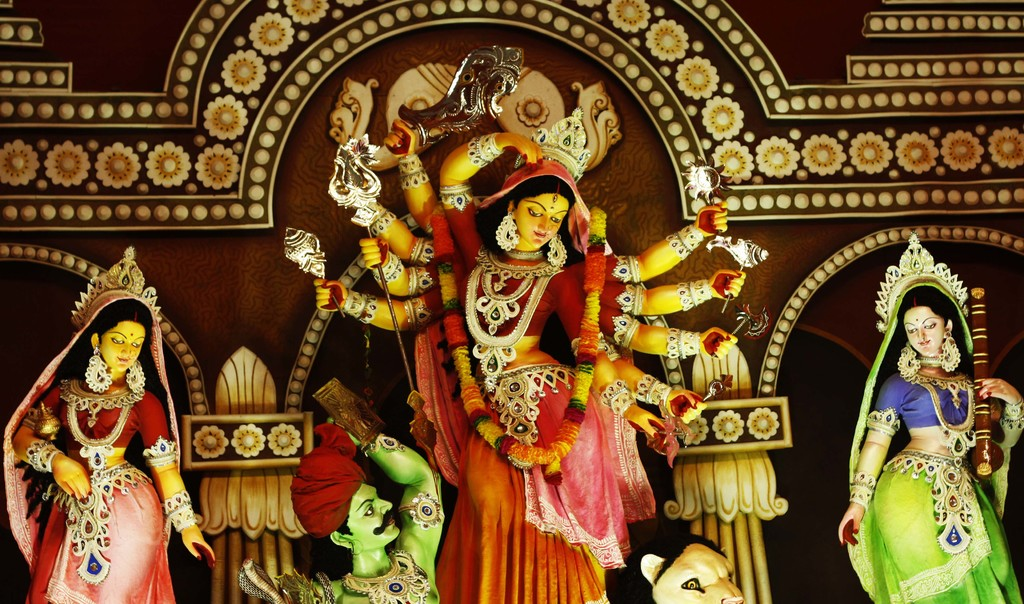Person: (312, 131, 744, 604), (273, 421, 444, 604)
